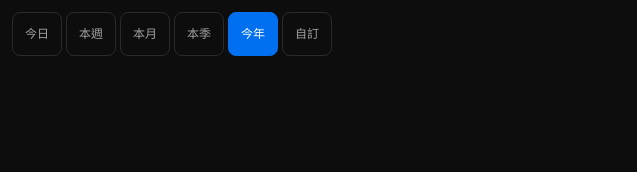
ReportDateRangePicker Component › hides custom inputs when switching back to a preset
Open custom
Click the button "自訂": (307,34) [282, 12, 332, 56]
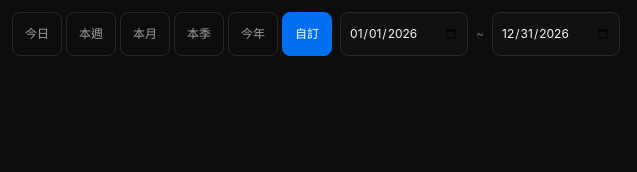
Expected: the date field named "報表開始日期" is shown, [340, 12, 468, 56]
Switch to preset
Click the button "本月": (145,34) [120, 12, 170, 56]
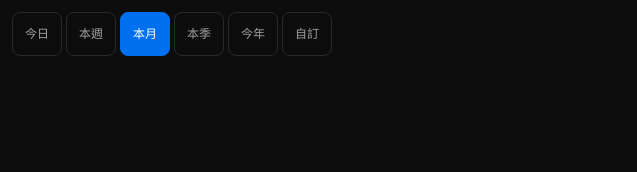
Expected: the date field labelled "報表開始日期" is gone
